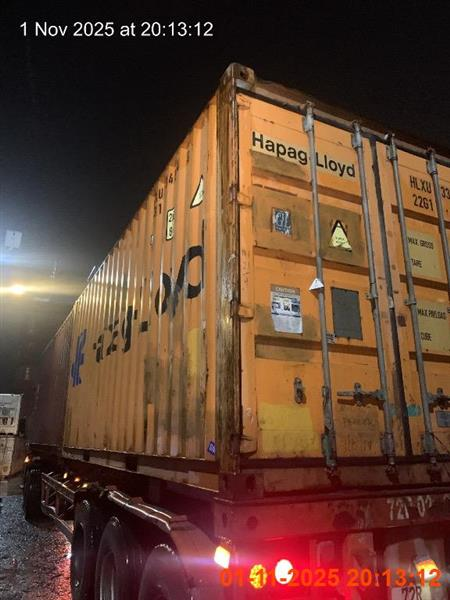broken: (19, 64, 449, 599)
